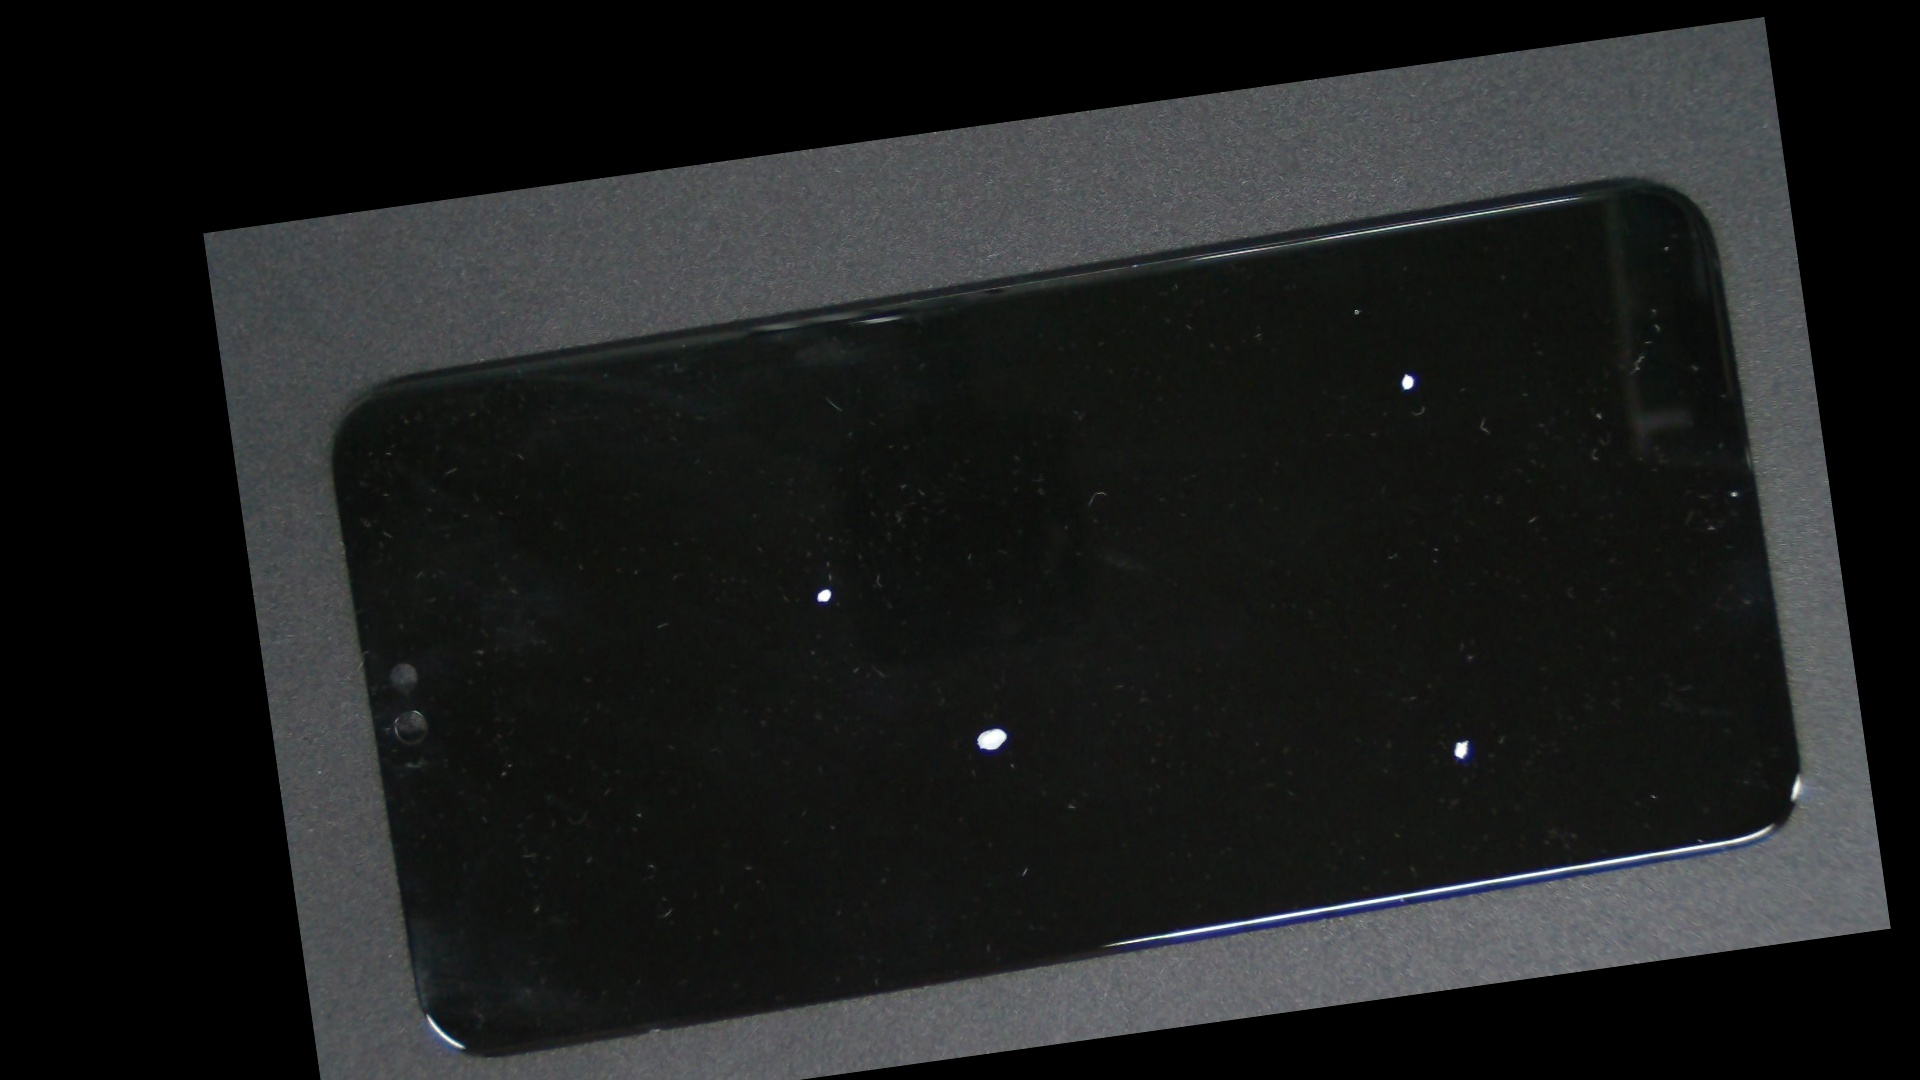oil: (831, 351, 1891, 1064), (599, 382, 1387, 1073), (804, 166, 1826, 604), (514, 332, 1137, 843)
